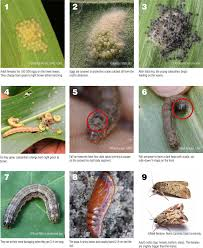eggs: (150, 4, 199, 60), (83, 9, 132, 61), (16, 22, 52, 54)
larva: (2, 182, 64, 231), (160, 94, 196, 150), (88, 89, 121, 142), (2, 126, 44, 135), (6, 114, 28, 126), (39, 111, 54, 122), (52, 108, 63, 122), (37, 122, 54, 131)
moth: (147, 203, 201, 229), (149, 176, 198, 200)
pupa: (83, 171, 115, 236)
